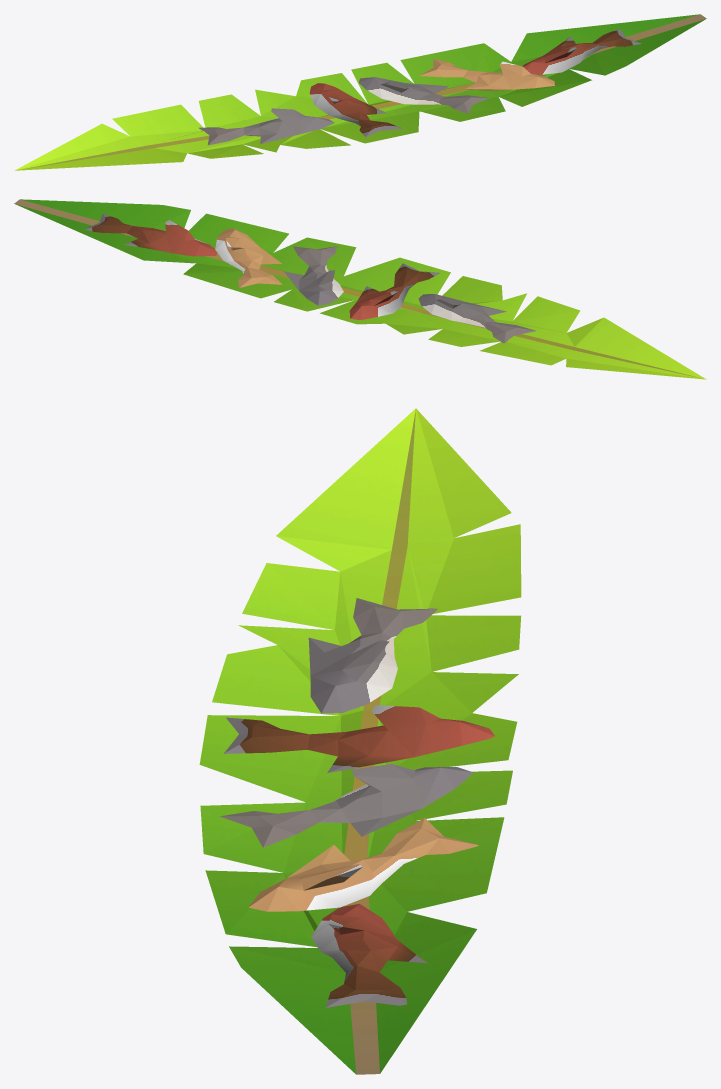
3 views of the same model, one above another, from view 1: azimuth 30°, elevation 25°; view 2: azimuth 150°, elevation 25°; view 3: azimuth 270°, elevation 25° (orthographic). The views are drawn at different scales.
Parts seen in each view (by area): view 1: DriedFishLeaf; view 2: DriedFishLeaf; view 3: DriedFishLeaf.
Boxes of the visible parts, <box> form: DriedFishLeaf: <box>15,14,706,170</box>; DriedFishLeaf: <box>14,199,706,379</box>; DriedFishLeaf: <box>199,408,521,1074</box>.
Size of the model in its own units: 4.16 by 0.1272 by 0.8553.
Materials: 1 (1 with a texture image).
